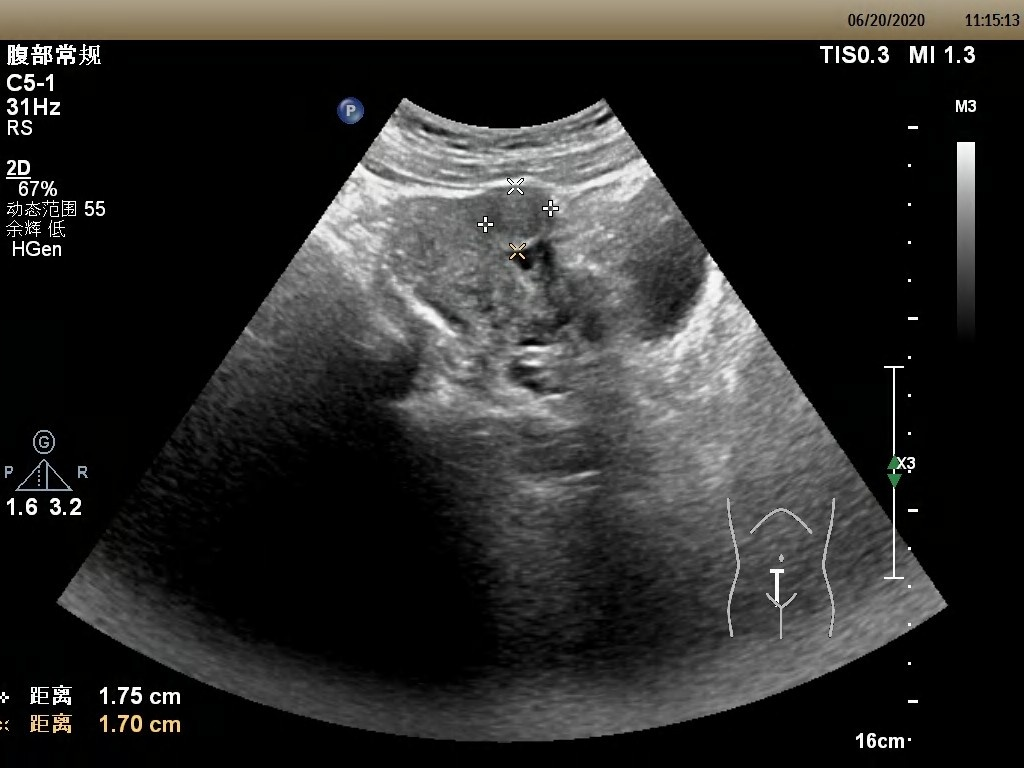肌瘤: (489, 190, 551, 246)
